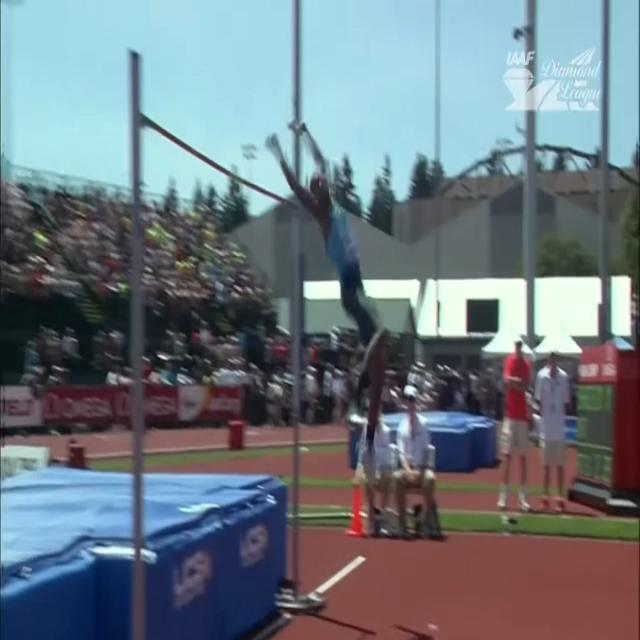jump: (266, 116, 391, 488)
